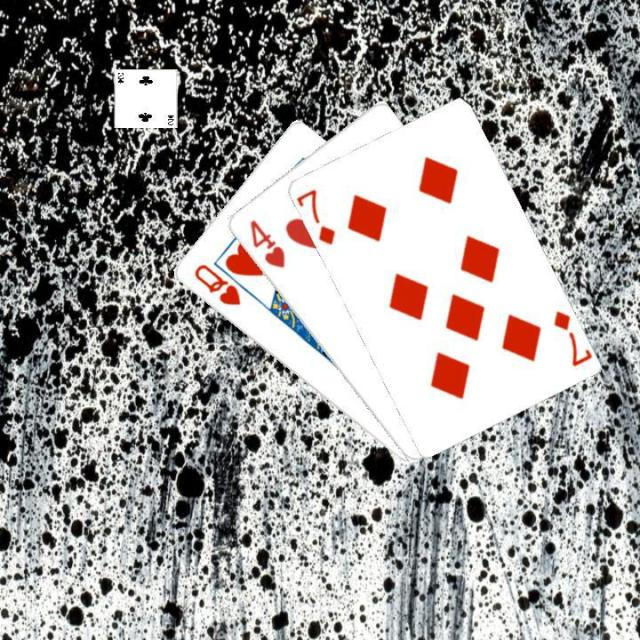4H: (245, 215, 287, 270)
7D: (294, 185, 337, 247), (549, 307, 591, 368)
QH: (189, 260, 242, 308)
